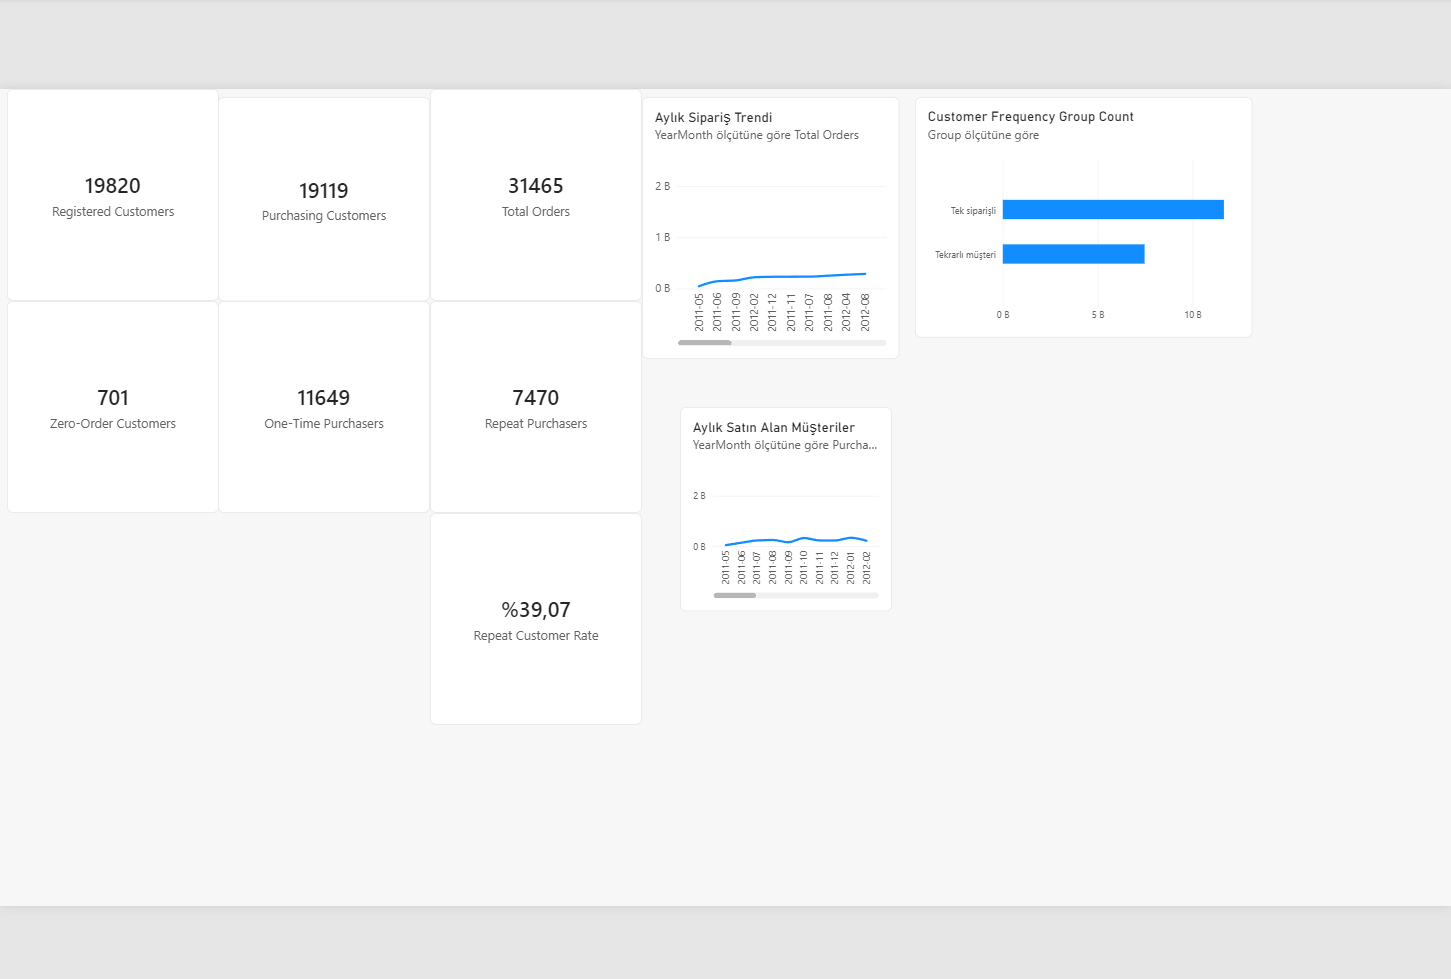

The page's visual inventory and layout, read from the dashboard file:
{"tool":"powerbi","page":{"name":"1. sayfa","canvas":[1920,1080],"ordinal":0},"visuals":[{"type":"card","fields":{"Values":["FactOrders.Registered Customers"]},"box":[10,0,280,280],"z":0},{"type":"card","fields":{"Values":["FactOrders.Zero-Order Customers"]},"box":[10.4,279.8,280,280],"z":1000},{"type":"card","fields":{"Values":["FactOrders.Total Orders"]},"box":[570,0,280,280],"z":2000},{"type":"card","fields":{"Values":["FactOrders.Purchasing Customers"]},"box":[290,10,280,270],"z":3000},{"type":"card","fields":{"Values":["FactOrders.One-Time Purchasers"]},"box":[290,280,280,280],"z":4000},{"type":"card","fields":{"Values":["FactOrders.Repeat Purchasers"]},"box":[570,279.8,280,280],"z":5000},{"type":"card","fields":{"Values":["FactOrders.Repeat Customer Rate"]},"box":[570,559.6,280,280],"z":6000},{"type":"lineChart","title":"Aylık Sipariş Trendi","fields":{"Category":["DimDate.YearMonth"],"Y":["FactOrders.Total Orders"]},"box":[850,10,340,346],"z":7000},{"type":"clusteredBarChart","fields":{"Category":["CustomerFrequencyGroups.Group"],"Y":["CustomerFrequencyGroups.Customer Frequency Group Count"]},"box":[1210,10,446,318],"z":8000},{"type":"lineChart","title":"Aylık Satın Alan Müşteriler","fields":{"Category":["DimDate.YearMonth"],"Y":["FactOrders.Purchasing Customers"]},"box":[900,420,280,270],"z":9000}]}

Visuals, with their boxes in screenshot pixels (x1, y1, x2, y2):
card - FactOrders.Registered Customers: detection(0, 15, 114, 216)
card - FactOrders.Zero-Order Customers: detection(0, 216, 114, 418)
card - FactOrders.Total Orders: detection(315, 15, 517, 216)
card - FactOrders.Purchasing Customers: detection(114, 22, 315, 216)
card - FactOrders.One-Time Purchasers: detection(114, 216, 315, 418)
card - FactOrders.Repeat Purchasers: detection(315, 216, 517, 418)
card - FactOrders.Repeat Customer Rate: detection(315, 417, 517, 619)
"Aylık Sipariş Trendi" lineChart: detection(517, 22, 761, 271)
clusteredBarChart - CustomerFrequencyGroups.Group x CustomerFrequencyGroups.Customer Frequency Group Count: detection(775, 22, 1096, 251)
"Aylık Satın Alan Müşteriler" lineChart: detection(553, 317, 754, 511)
